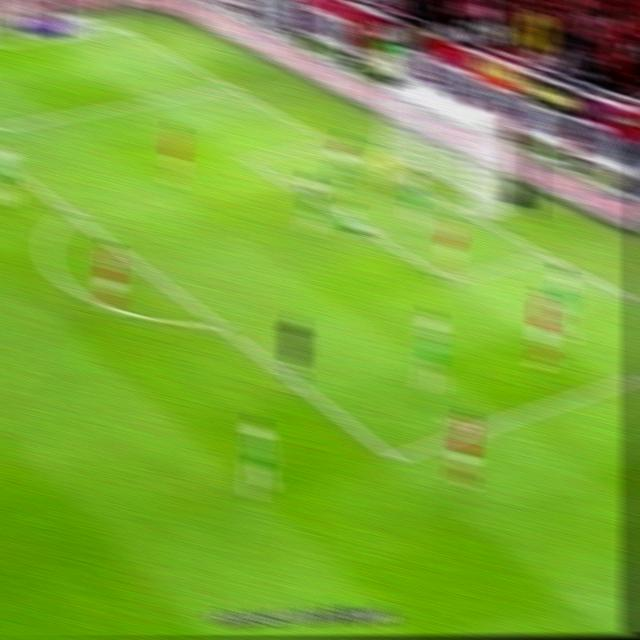bigarea_bottom_inner: (378, 443, 412, 479)
bigarea_top_outter: (218, 77, 239, 95)
bottom_arc_area_intersection: (205, 311, 232, 338)
corner: (111, 22, 133, 33)
smallarea_bottom_inner: (437, 266, 462, 296)
smallarea_bottom_outter: (533, 240, 558, 265)
smallarea_top_inner: (236, 148, 260, 171)
smallarea_top_outter: (319, 130, 342, 152)
top_arc_area_intersection: (60, 204, 81, 222)
